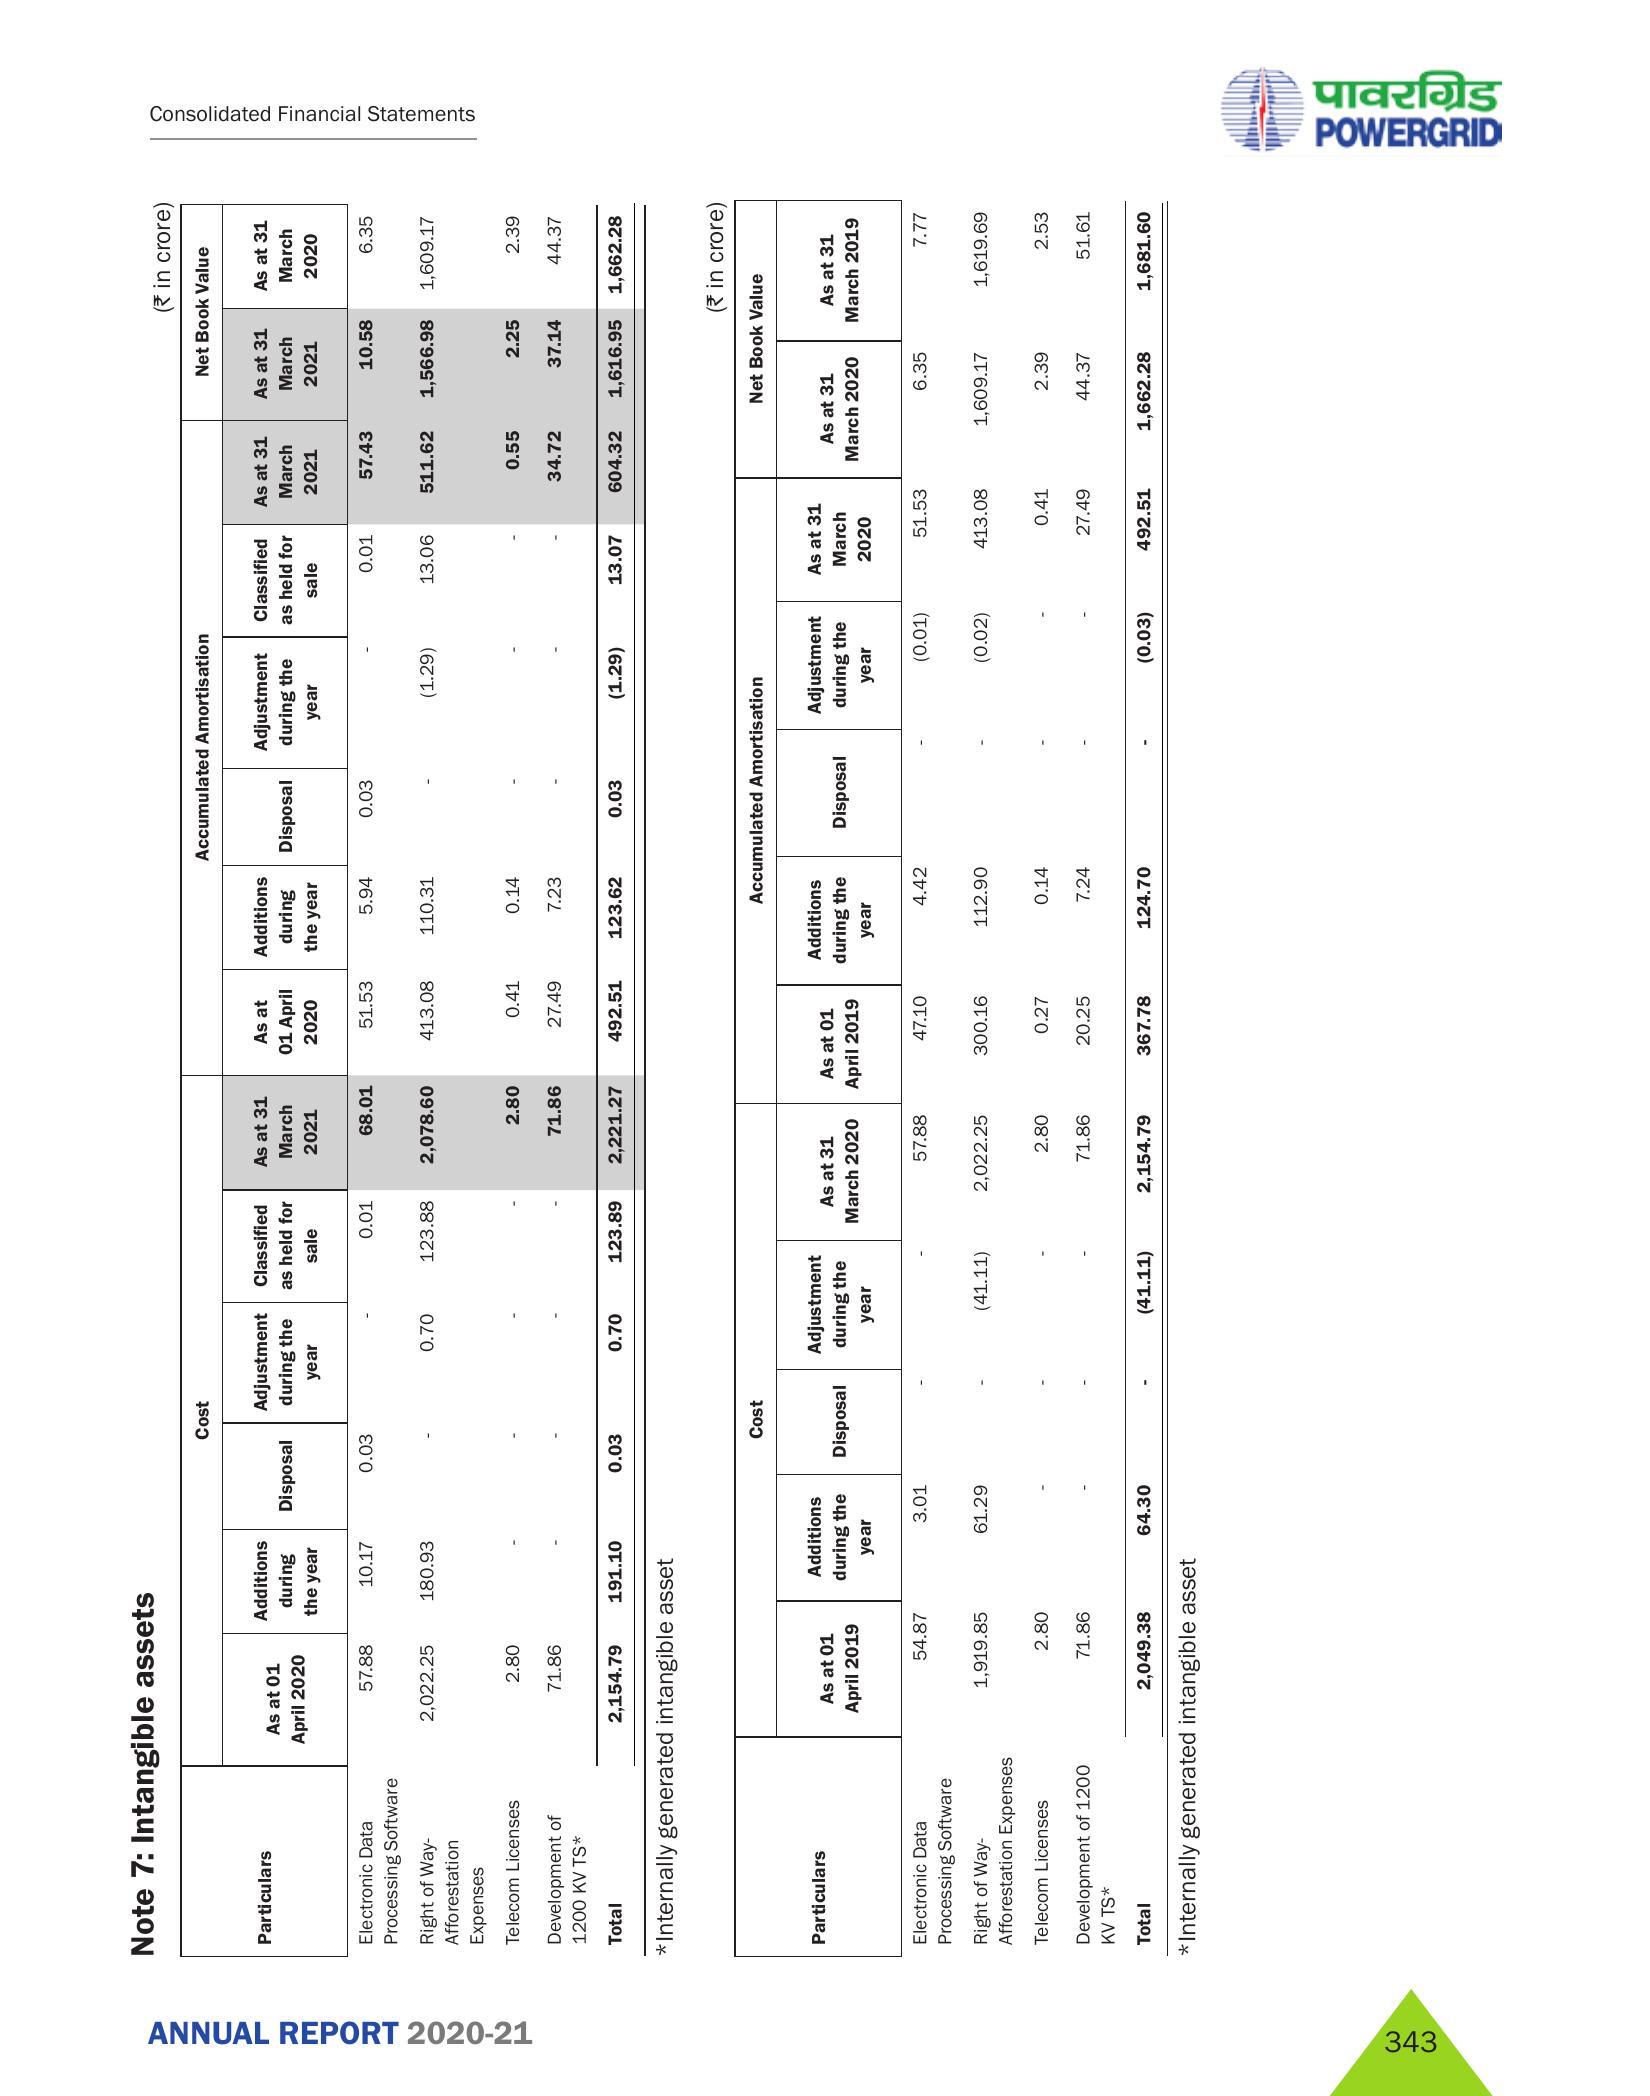Footer: (3, 1974, 1650, 2096)
Header: (0, 0, 1650, 163)
Table: (691, 192, 1186, 1968), (175, 192, 645, 1962)
